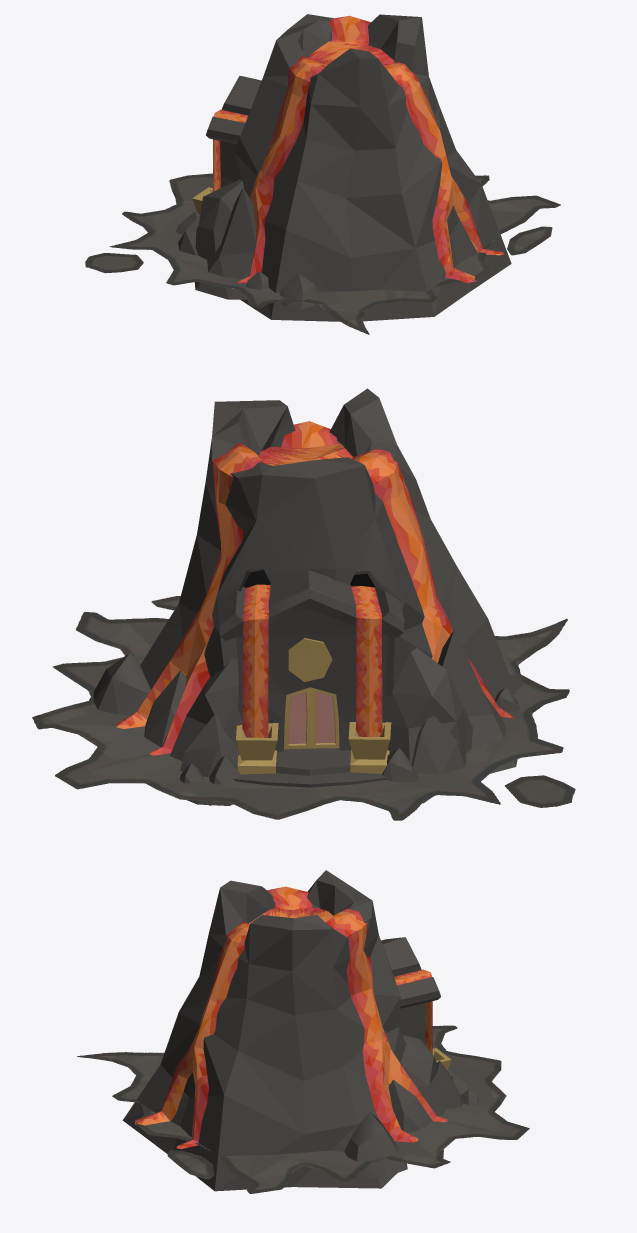
File: hauntVolcano.fbx
3 renders of one model, top to bottom at view 1: azimuth 30°, elevation 25°; view 2: azimuth 150°, elevation 25°; view 3: azimuth 270°, elevation 25°, orthographic. The views are drawn at different scales.
Parts seen in each view (by area): view 1: hauntVolcano, groundPlane; view 2: hauntVolcano, groundPlane; view 3: hauntVolcano, groundPlane.
Part boxes in pixels (box(x1,y1,x2,y2)): hauntVolcano: box(176, 14, 511, 321); groundPlane: box(85, 173, 560, 334); hauntVolcano: box(89, 388, 523, 805); groundPlane: box(32, 596, 575, 820); hauntVolcano: box(122, 870, 479, 1191); groundPlane: box(77, 1025, 529, 1193).
Size of the model in its own units: 5.03 by 2.18 by 5.03.
